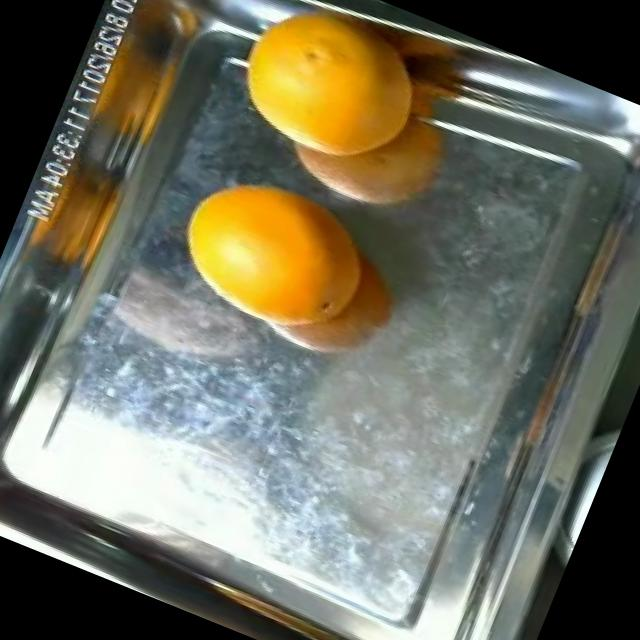Fruit: (140, 132, 394, 366)
